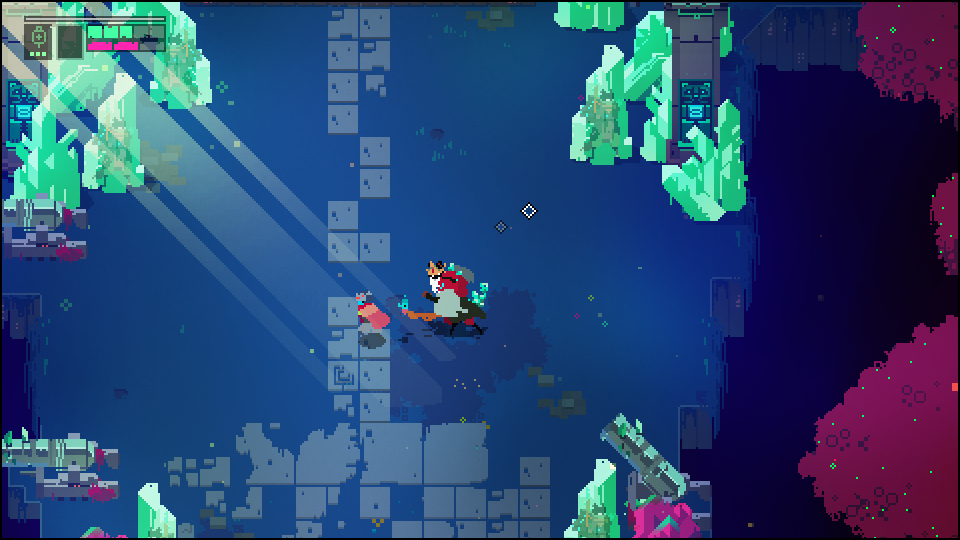hanged_man: (402, 257, 482, 333)
player: (355, 290, 389, 338)
